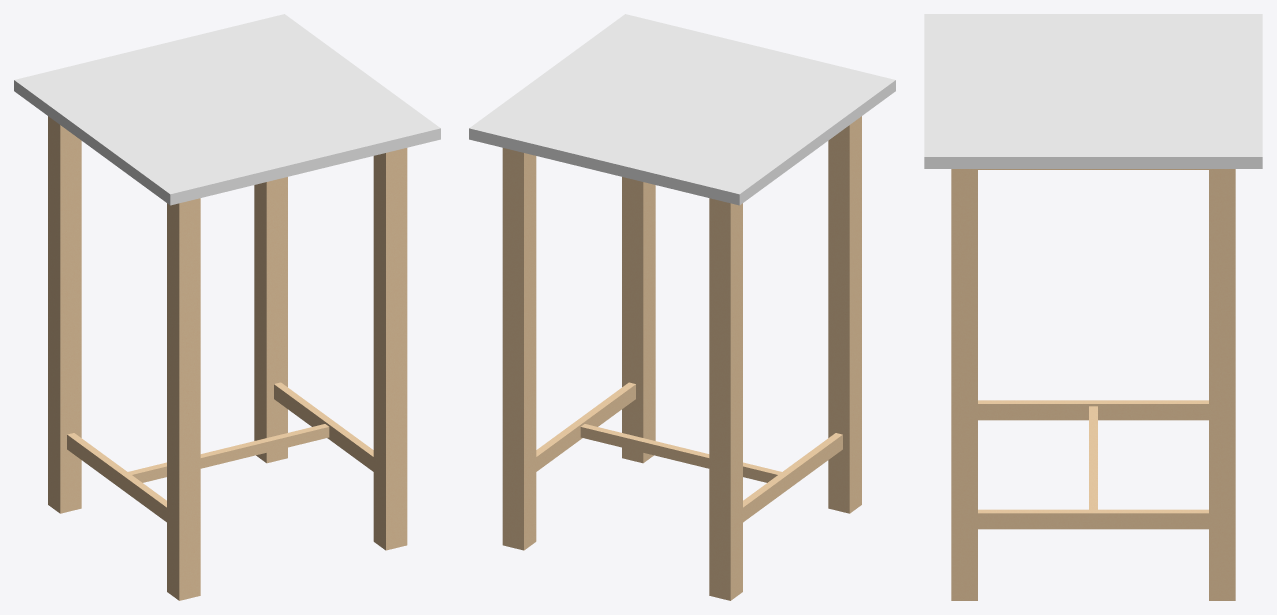
The model's file is Stool.fbx.
The picture shows the model from 3 angles, left to right: view 1: azimuth 30°, elevation 25°; view 2: azimuth 150°, elevation 25°; view 3: azimuth 270°, elevation 25°; orthographic projection. The views are drawn at different scales.
Visible parts, largest first — view 1: Stool_lowpoly; view 2: Stool_lowpoly; view 3: Stool_lowpoly.
Part boxes in pixels (<box>): Stool_lowpoly: <box>14,14,440,600</box>; Stool_lowpoly: <box>469,14,895,600</box>; Stool_lowpoly: <box>924,14,1262,600</box>.
Bounding box in the file's own units: 0.38 × 0.5649 × 0.38.
